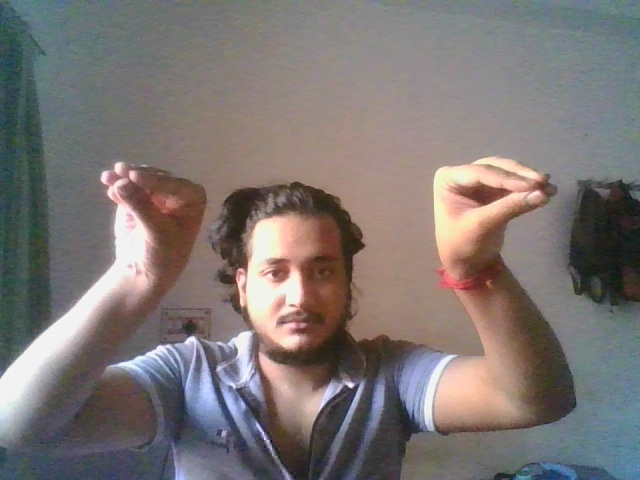Mouth: (95, 160, 207, 285), (432, 156, 556, 267)
